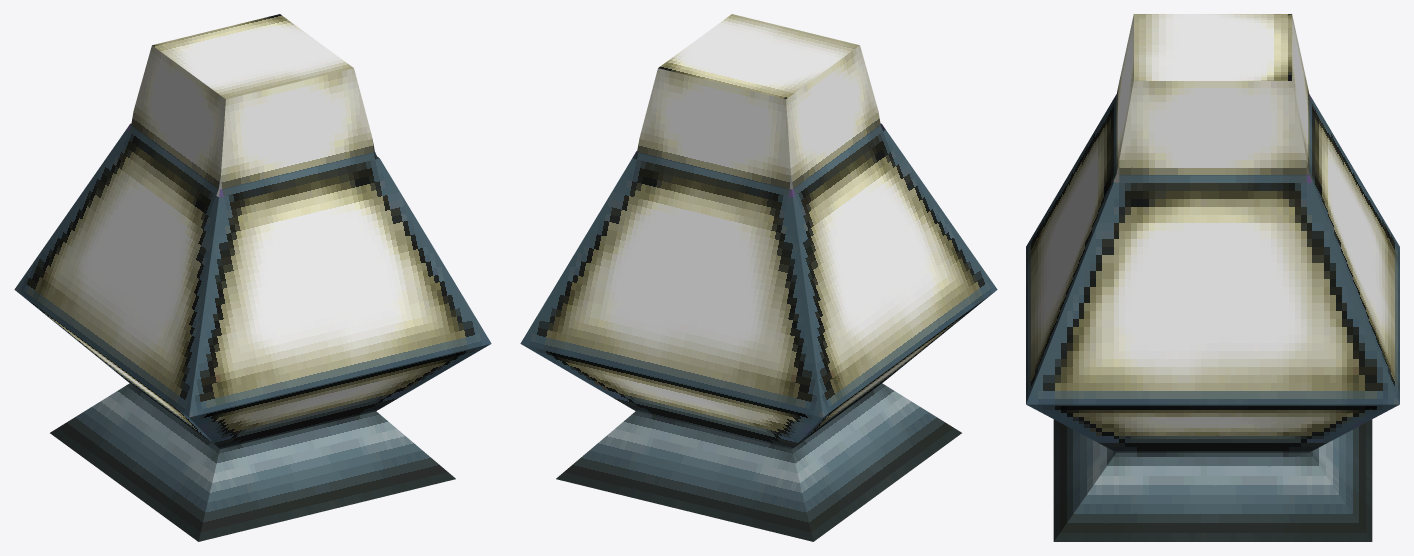
The picture shows the model from 3 angles, left to right: view 1: azimuth 30°, elevation 25°; view 2: azimuth 150°, elevation 25°; view 3: azimuth 270°, elevation 25°; orthographic projection. The views are drawn at different scales.
Visible parts, largest first — view 1: Box01; view 2: Box01; view 3: Box01.
Boxes of the visible parts, bbox=[...] form: Box01: bbox=[14, 14, 491, 541]; Box01: bbox=[520, 14, 997, 541]; Box01: bbox=[1026, 14, 1399, 541].
Size of the model in its own units: 0.00897 by 0.0113 by 0.00897.
Materials: 1 (1 with a texture image).
